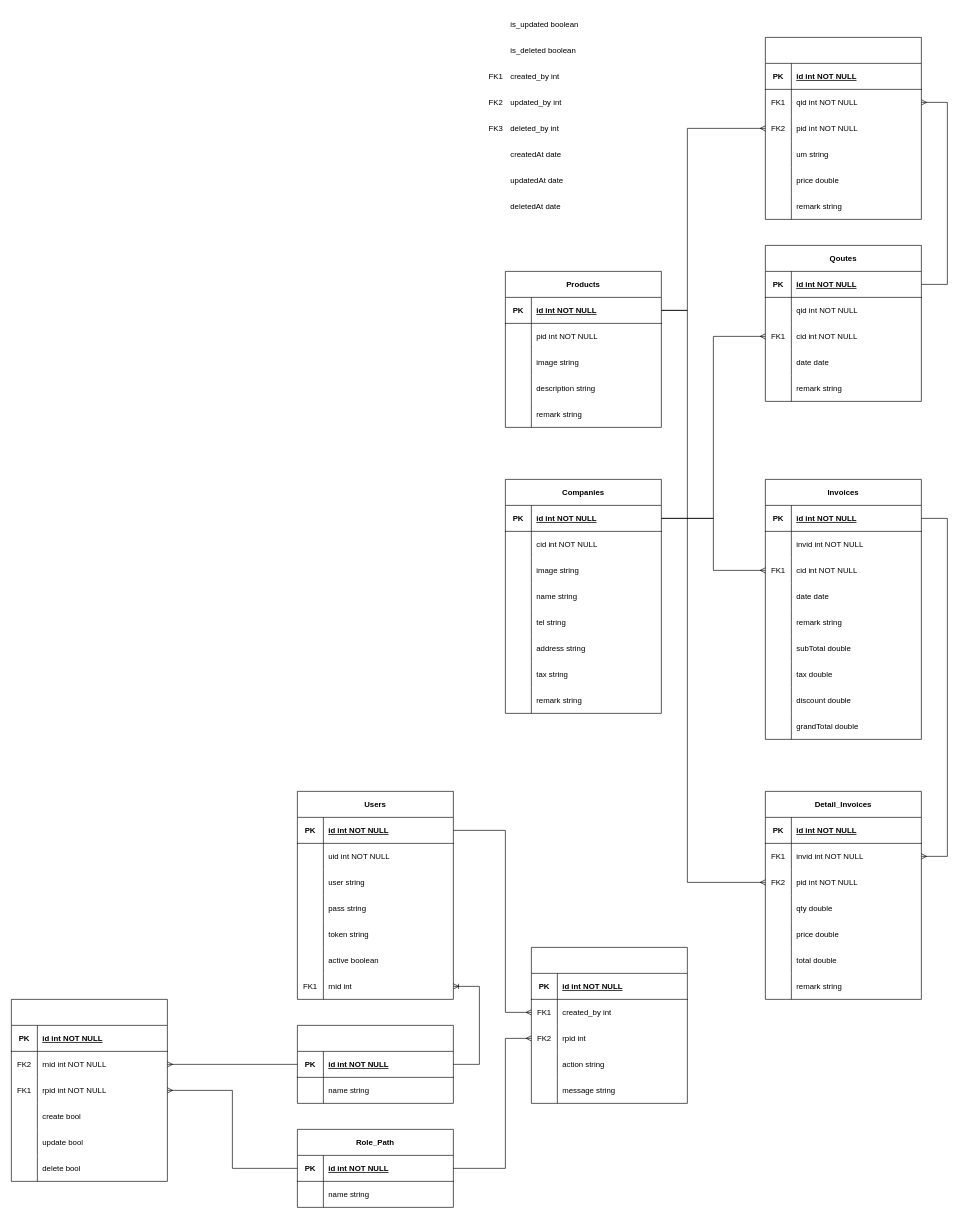
This 964x1219 diagram has some shape labels left out. Here are the shapes that lost their labels. From the top down, the box of each, then its label:
(765, 37, 921, 219): Detail_Qoutes
(531, 947, 687, 1103): Logs
(297, 1025, 453, 1103): Role_Name
(11, 999, 167, 1181): Roles
